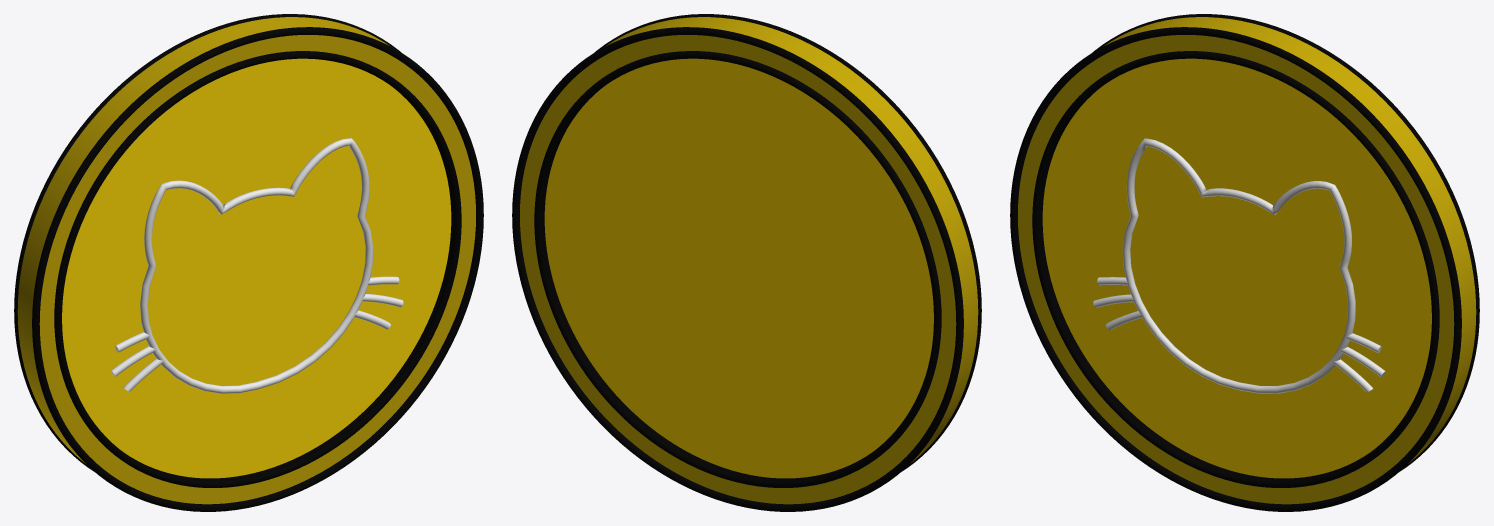
Rendered from Game Currency UI.fbx.
3 views of the same model, side by side, from view 1: azimuth 30°, elevation 25°; view 2: azimuth 150°, elevation 25°; view 3: azimuth 330°, elevation 25° (orthographic).
Visible parts, largest first — view 1: Coin, Coin.001, Outline, Outline.001, Cat Coin Logo, Cat Coin Logo.001; view 2: Coin, Outline, Outline.001; view 3: Coin, Coin.001, Outline, Outline.001, Cat Coin Logo, Cat Coin Logo.001.
Boxes of the visible parts, x1,y1,x2,y2 form: Coin: (17,17,475,463); Coin.001: (40,163,475,504); Outline: (14,14,483,504); Outline.001: (32,27,483,511); Cat Coin Logo: (111,138,402,388); Cat Coin Logo.001: (111,139,403,393); Coin: (520,17,978,504); Outline: (512,14,981,511); Outline.001: (595,14,981,462); Coin: (1018,17,1476,463); Coin.001: (1018,169,1453,504); Outline: (1010,14,1479,504); Outline.001: (1010,27,1461,511); Cat Coin Logo: (1093,138,1385,388); Cat Coin Logo.001: (1093,138,1385,393).
Bounding box in the file's own units: 201 × 201 × 16.89.
